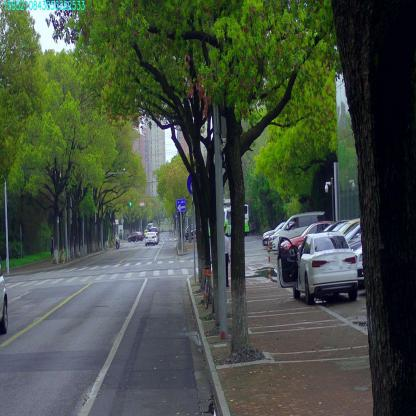traffic-light: (129, 201, 132, 207)
